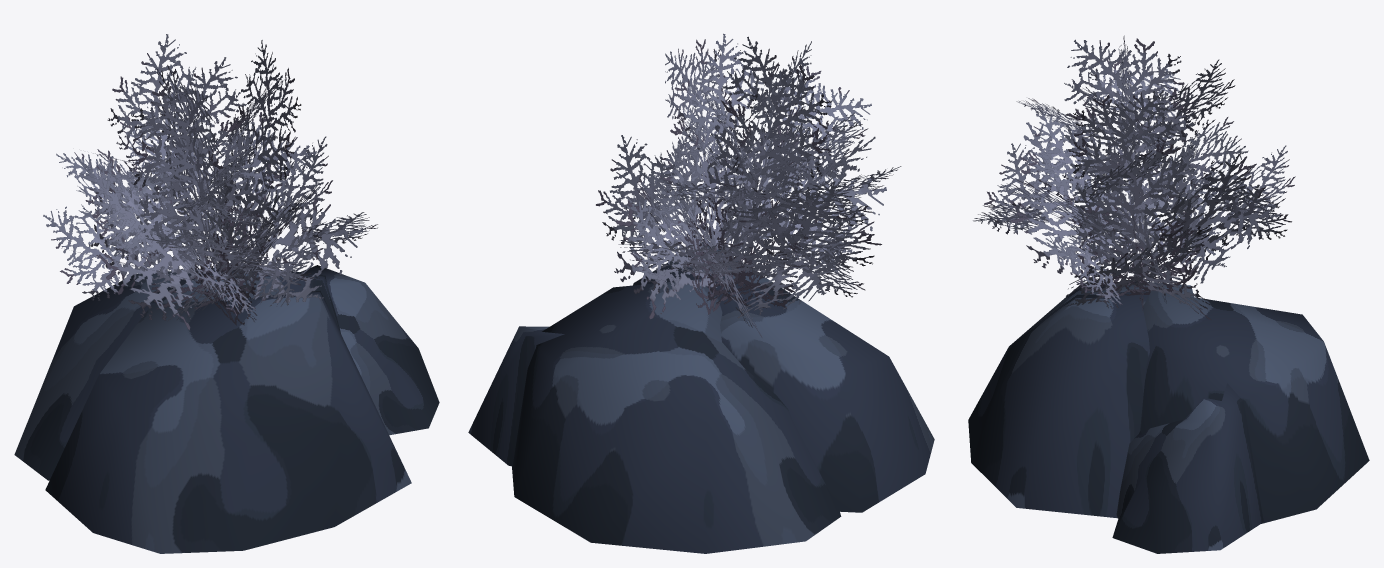
The model's file is Ivory Bush Coral 1_preview_3DS_simplified.glb.
3 views of the same model, side by side, from view 1: azimuth 30°, elevation 25°; view 2: azimuth 150°, elevation 25°; view 3: azimuth 270°, elevation 25° (orthographic). The views are drawn at different scales.
Visible parts, largest first — view 1: Marine Park Empire model; view 2: Marine Park Empire model; view 3: Marine Park Empire model.
Part boxes in pixels (x1=…): Marine Park Empire model: x1=14, y1=34, x2=439, y2=553; Marine Park Empire model: x1=468, y1=33, x2=934, y2=553; Marine Park Empire model: x1=968, y1=35, x2=1369, y2=553.
Bounding box in the file's own units: 36.88 × 38.77 × 35.01.
2 materials, 2 textured.
